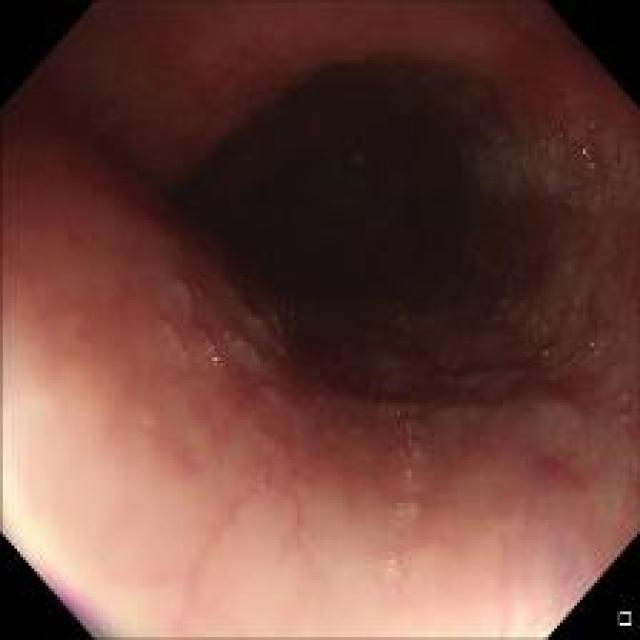bubbles: (450, 124, 636, 220), (364, 404, 434, 596), (149, 312, 299, 386), (530, 316, 625, 370), (610, 376, 636, 425), (254, 475, 269, 491)
contrast: (161, 55, 564, 375)
saturation: (2, 480, 69, 576)
